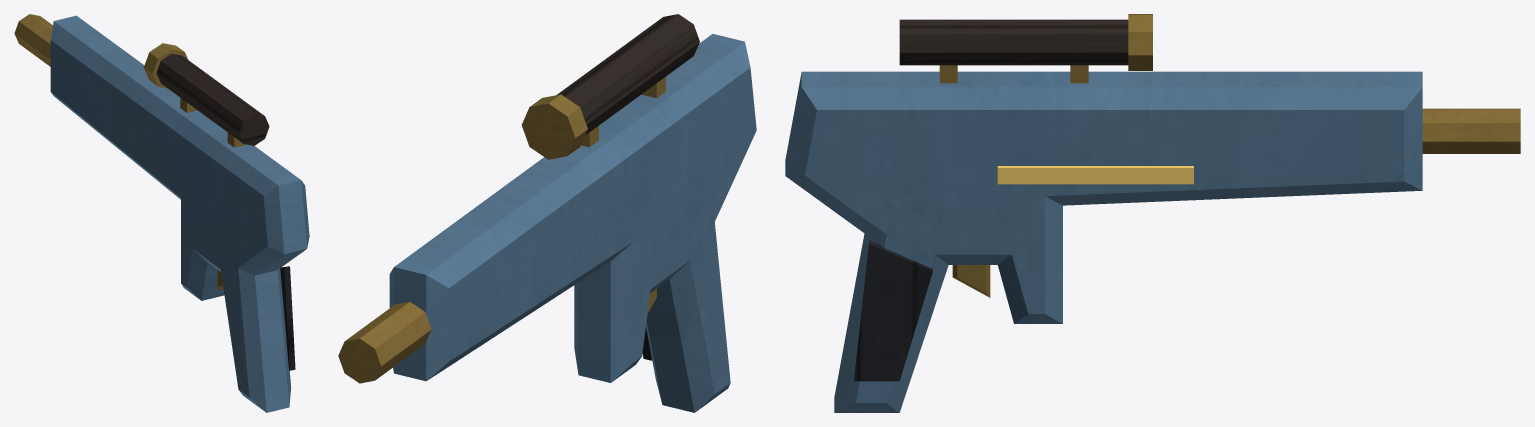
File: wpn_gun_rare.glb
3 renders of one model, left to right at view 1: azimuth 30°, elevation 25°; view 2: azimuth 150°, elevation 25°; view 3: azimuth 270°, elevation 25°, orthographic. The views are drawn at different scales.
Parts seen in each view (by area): view 1: wpn_gun_rare; view 2: wpn_gun_rare; view 3: wpn_gun_rare.
Part boxes in pixels (<box>): wpn_gun_rare: <box>14,14,309,412</box>; wpn_gun_rare: <box>338,14,756,412</box>; wpn_gun_rare: <box>785,14,1520,412</box>.
Bounding box in the file's own units: 0.048 × 0.2846 × 0.486.
5 materials, 5 textured.
